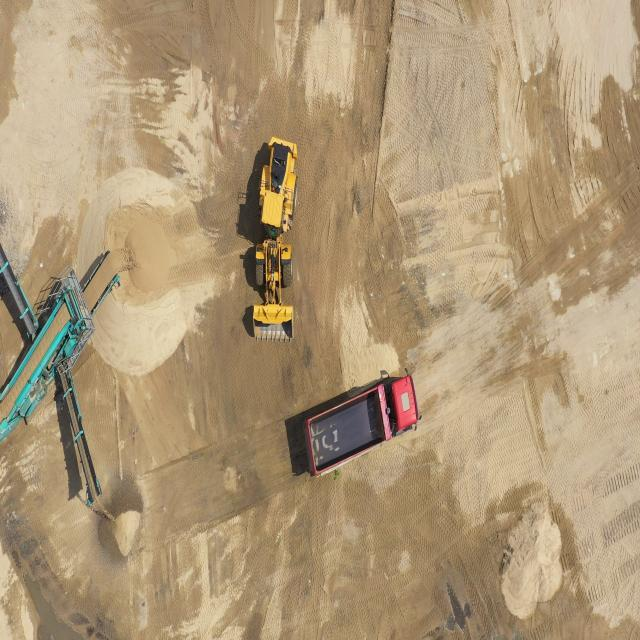vehicle: (303, 366, 422, 481), (249, 136, 301, 342)
